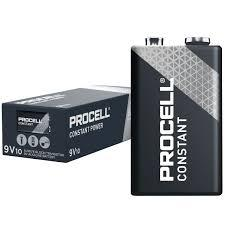9V: (127, 33, 224, 199)
